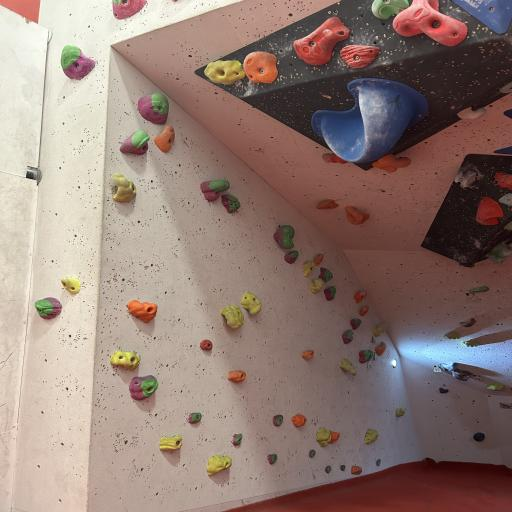holds: (312, 78, 430, 162), (393, 0, 468, 46), (293, 16, 349, 65), (60, 46, 97, 79), (244, 51, 278, 83), (138, 92, 169, 125), (204, 60, 244, 85), (340, 45, 380, 69), (372, 0, 410, 19), (372, 154, 411, 172), (122, 130, 150, 155), (128, 299, 157, 323), (131, 374, 157, 400), (476, 198, 502, 224), (200, 180, 230, 201), (113, 0, 146, 19), (112, 174, 136, 200), (36, 297, 62, 320), (485, 241, 512, 263), (154, 125, 175, 153), (111, 349, 140, 369), (274, 225, 295, 249), (221, 306, 243, 328), (208, 455, 232, 475), (345, 206, 369, 225), (242, 292, 261, 314), (458, 106, 486, 120), (221, 194, 240, 213), (495, 170, 512, 191), (160, 435, 183, 450), (340, 357, 358, 376), (461, 172, 480, 190), (62, 278, 78, 295), (316, 428, 330, 447), (364, 428, 380, 444), (452, 370, 472, 382), (302, 260, 316, 277), (316, 200, 339, 210), (322, 154, 345, 164), (229, 370, 247, 382), (319, 268, 333, 282), (324, 286, 337, 301), (284, 251, 299, 264), (291, 414, 307, 426), (311, 279, 324, 293), (272, 413, 285, 426), (374, 323, 387, 336), (342, 330, 354, 344), (355, 289, 367, 303), (189, 412, 202, 424), (359, 350, 371, 363), (500, 193, 512, 206), (460, 318, 477, 327), (468, 286, 489, 293), (461, 339, 479, 347), (200, 339, 213, 350), (301, 350, 315, 360), (376, 342, 386, 356), (444, 331, 461, 339), (233, 433, 243, 446), (330, 430, 340, 443), (314, 253, 324, 266), (440, 362, 456, 370), (487, 384, 503, 391), (351, 465, 362, 475), (351, 318, 361, 329), (359, 305, 369, 316), (474, 433, 485, 442), (269, 453, 277, 465), (396, 408, 408, 416), (367, 350, 373, 362), (309, 448, 316, 458), (376, 458, 382, 468), (439, 388, 449, 393), (326, 466, 332, 474), (341, 464, 346, 472), (372, 336, 376, 343)
